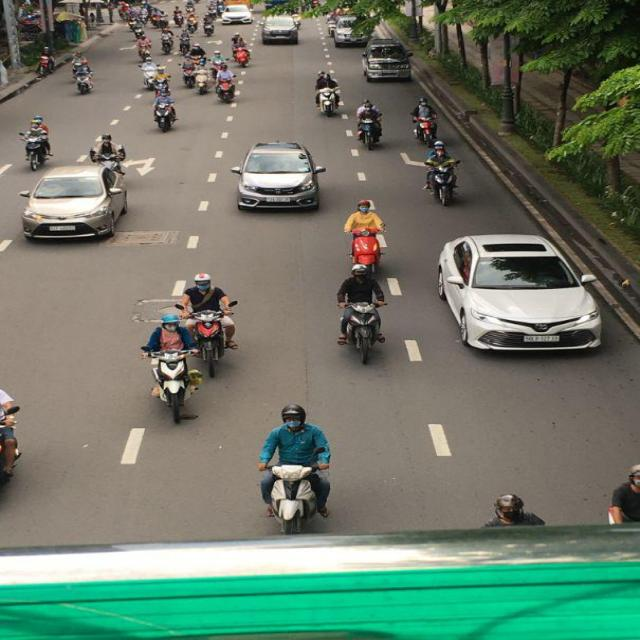car: (437, 234, 604, 354), (20, 164, 128, 242), (234, 140, 325, 212), (361, 34, 412, 82), (260, 15, 300, 45), (222, 3, 254, 26)
motorcycle: (264, 462, 322, 534), (147, 350, 195, 426), (185, 304, 234, 378), (344, 303, 385, 362), (350, 229, 386, 275), (424, 163, 459, 208), (356, 109, 384, 150), (314, 87, 341, 117), (24, 140, 49, 170), (216, 66, 236, 103), (154, 100, 177, 132), (413, 117, 439, 145), (76, 70, 96, 95)
